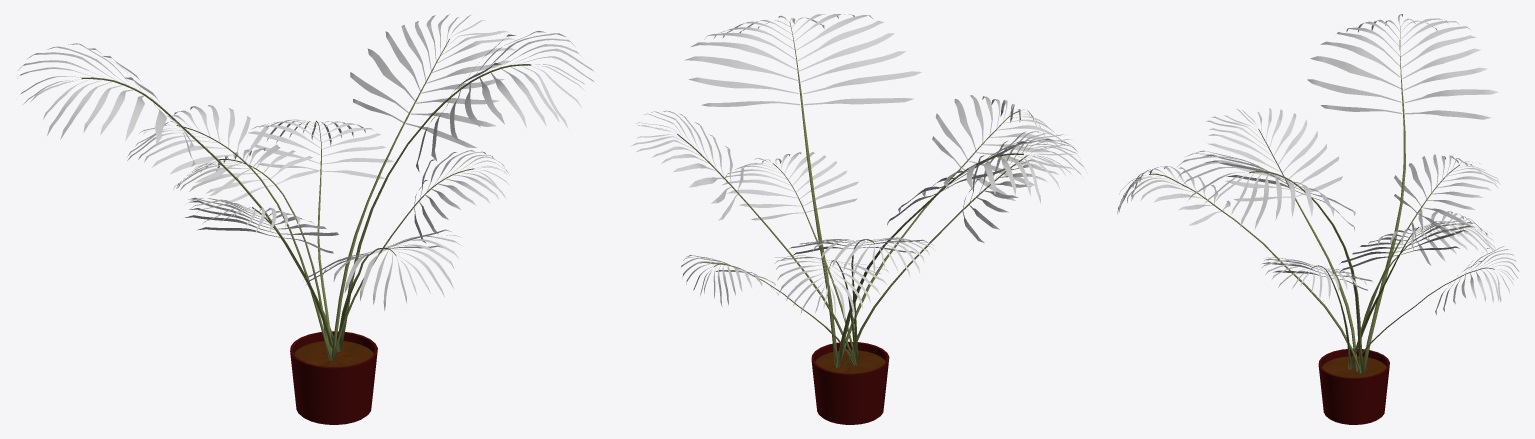
File: plant1.gltf
The picture shows the model from 3 angles, left to right: view 1: azimuth 30°, elevation 25°; view 2: azimuth 150°, elevation 25°; view 3: azimuth 270°, elevation 25°; orthographic projection. The views are drawn at different scales.
Parts seen in each view (by area): view 1: vegetable201; view 2: vegetable201; view 3: vegetable201.
Part boxes in pixels (bbox=[...]): vegetable201: bbox=[17, 14, 594, 424]; vegetable201: bbox=[630, 14, 1087, 424]; vegetable201: bbox=[1117, 14, 1519, 424].
Size of the model in its own units: 1.52 by 1.11 by 1.35.
